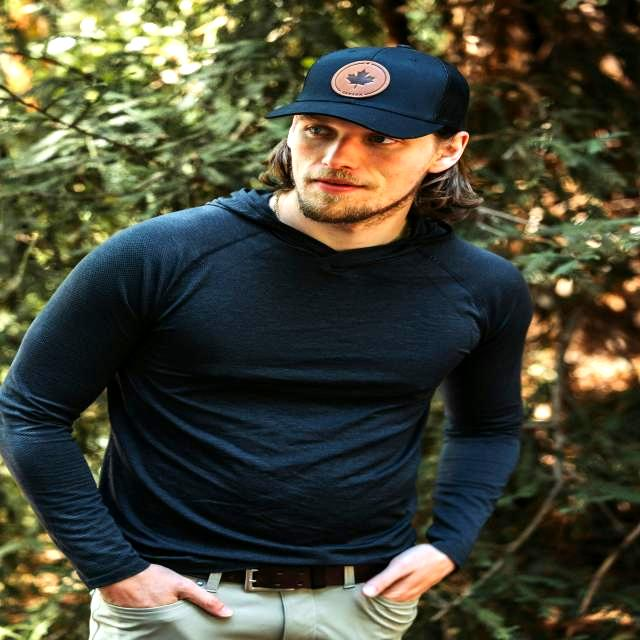no_hard_hat: (265, 45, 469, 139)
person: (2, 46, 531, 640)
